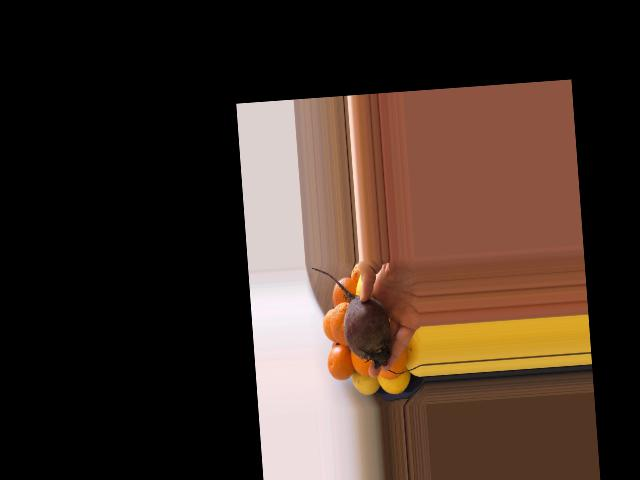beet: (312, 262, 392, 371)
